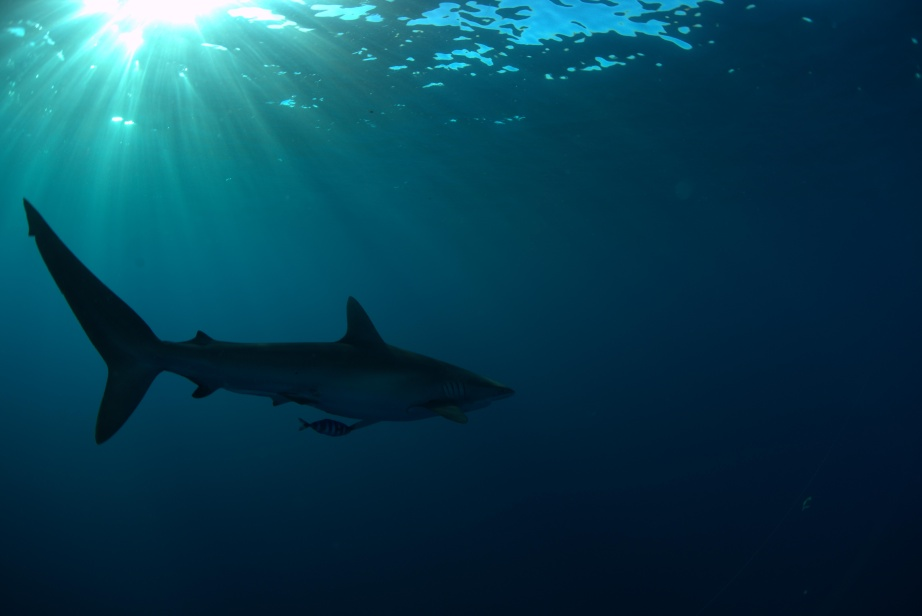Sedoso: (13, 187, 534, 464)
